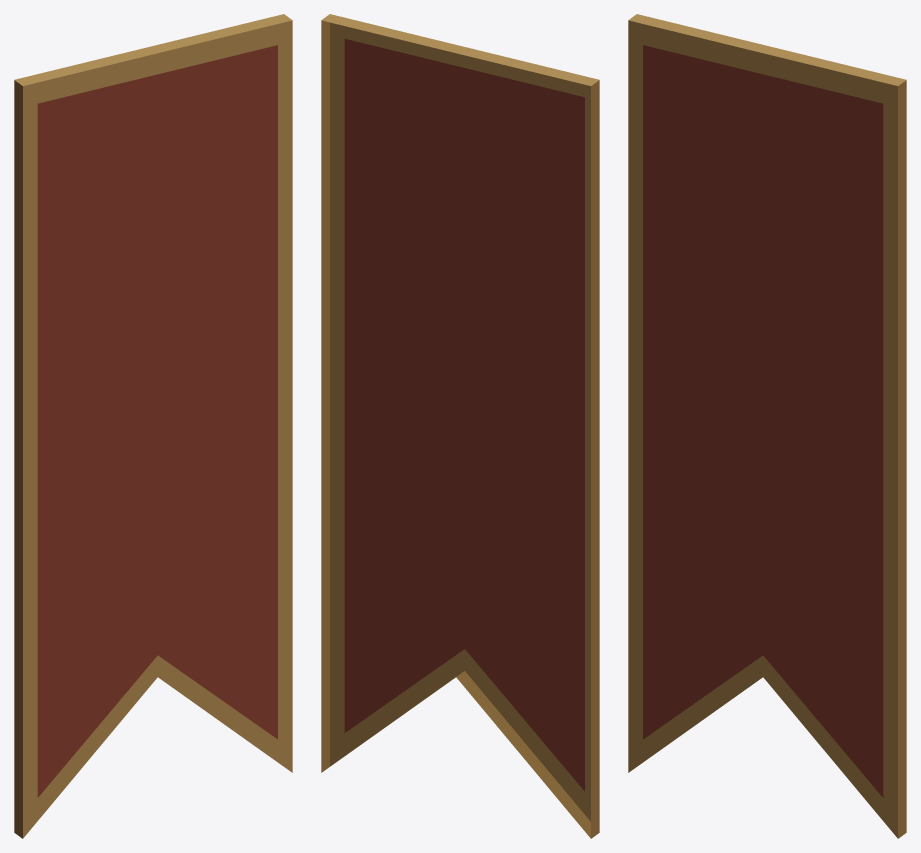
File: SM_Prop_Banner_Small_01.glb
3 views of the same model, side by side, from view 1: azimuth 30°, elevation 25°; view 2: azimuth 150°, elevation 25°; view 3: azimuth 330°, elevation 25° (orthographic).
Parts seen in each view (by area): view 1: SM_Prop_Banner_Small_01; view 2: SM_Prop_Banner_Small_01; view 3: SM_Prop_Banner_Small_01.
Boxes of the visible parts, x1=… form: SM_Prop_Banner_Small_01: x1=14, y1=14, x2=292, y2=838; SM_Prop_Banner_Small_01: x1=321, y1=14, x2=599, y2=838; SM_Prop_Banner_Small_01: x1=628, y1=14, x2=906, y2=838.
Bounding box in the file's own units: 0.0143 × 0.038 × 0.000796.
1 material, 1 textured.
